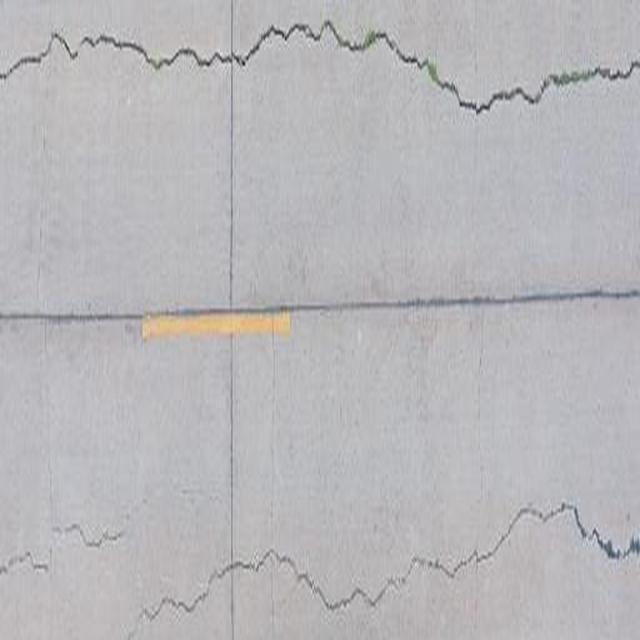minor crack: (30, 28, 56, 628), (100, 36, 172, 67), (5, 42, 64, 78), (331, 24, 393, 53), (384, 37, 430, 72), (173, 44, 220, 69), (291, 566, 323, 599), (465, 91, 504, 114), (50, 32, 79, 61)
moderate crack: (223, 17, 237, 621), (0, 522, 128, 575), (121, 604, 179, 640), (404, 310, 450, 347), (96, 528, 127, 544), (598, 537, 618, 558), (30, 561, 49, 572), (630, 534, 640, 554)
severe crack: (131, 546, 337, 622), (410, 503, 564, 575), (562, 502, 637, 562), (270, 284, 282, 640), (309, 574, 396, 612), (138, 305, 318, 317), (154, 588, 208, 616), (522, 501, 575, 528)
